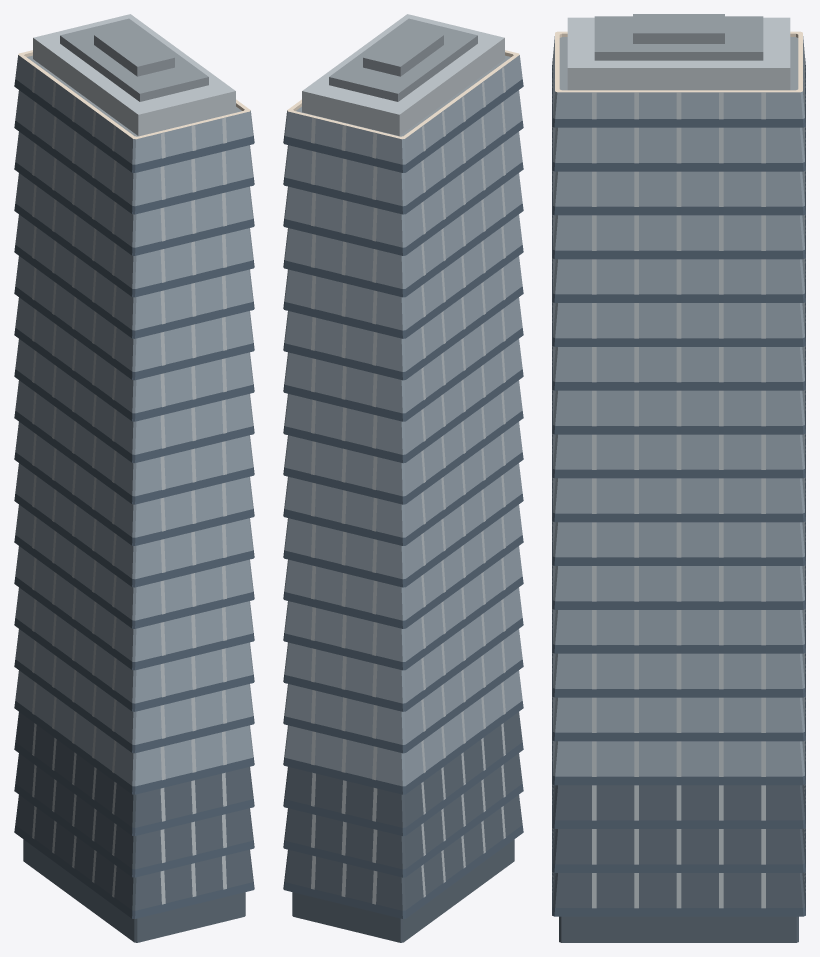
Rendered from seoul-fki-tower.glb.
The picture shows the model from 3 angles, left to right: view 1: azimuth 30°, elevation 25°; view 2: azimuth 150°, elevation 25°; view 3: azimuth 270°, elevation 25°; orthographic projection. The views are drawn at different scales.
Parts seen in each view (by area): view 1: FKI Tower; view 2: FKI Tower; view 3: FKI Tower.
Boxes of the visible parts, x1=… form: FKI Tower: x1=14, y1=14, x2=254, y2=942; FKI Tower: x1=283, y1=14, x2=523, y2=942; FKI Tower: x1=552, y1=14, x2=805, y2=942.
Size of the model in its own units: 39.02 by 256 by 66.12.
